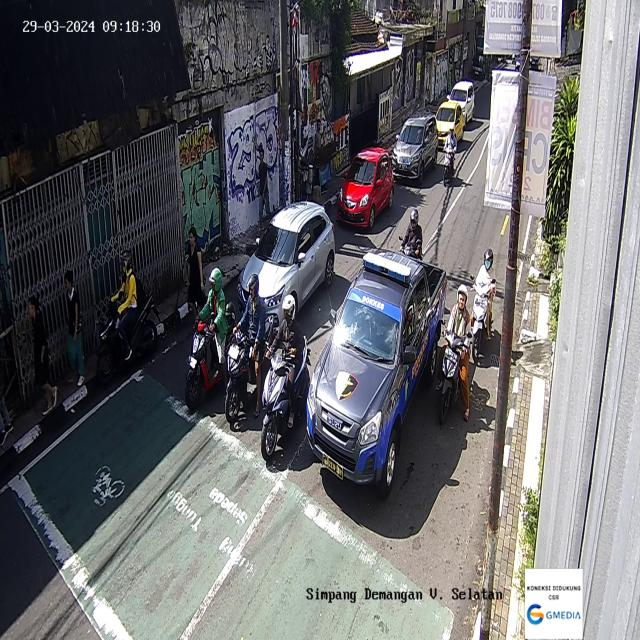car: (305, 247, 448, 498), (237, 200, 335, 332), (336, 146, 394, 230), (391, 112, 438, 184), (435, 100, 465, 148), (447, 80, 475, 125)
motorcycle: (93, 243, 162, 384), (260, 296, 312, 461), (224, 276, 278, 422), (184, 268, 238, 410), (436, 284, 472, 426), (469, 248, 497, 363), (398, 207, 422, 260), (442, 124, 457, 187)
